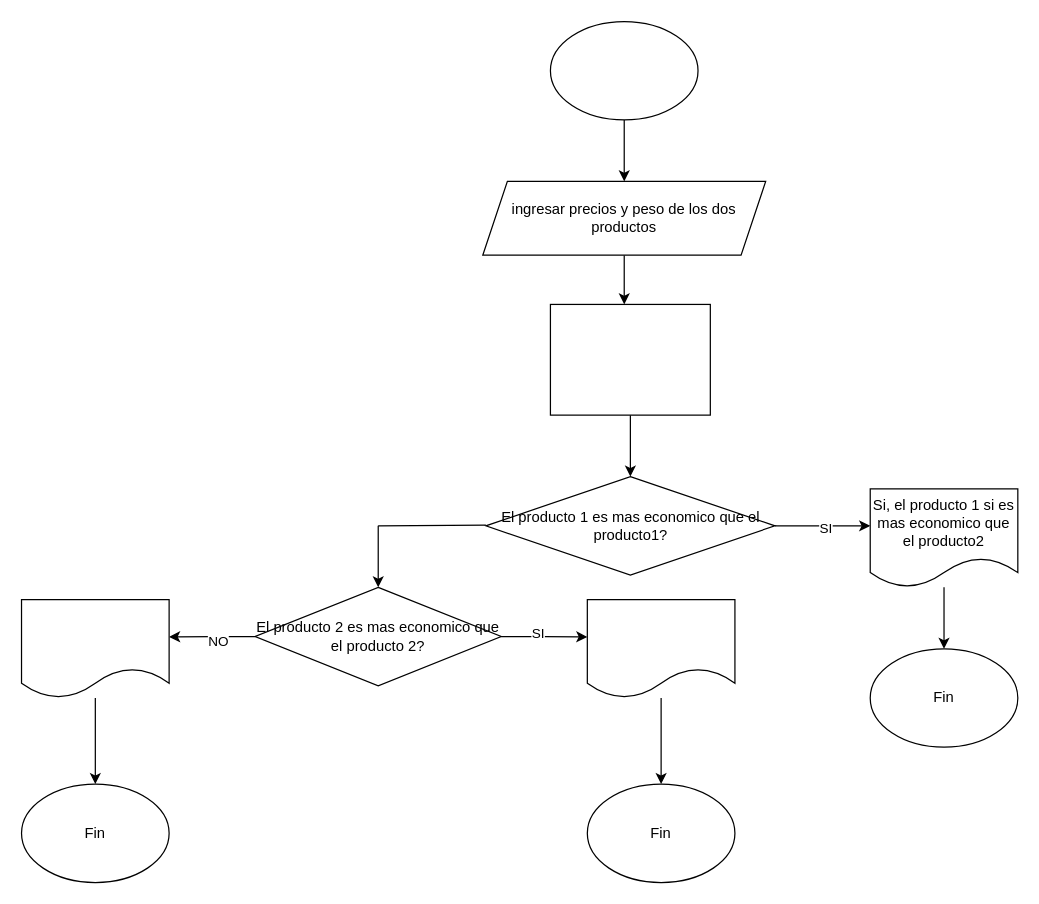
The diagram is 1039 pixels wide and 904 high, and some of its shapes have lost their labels. The shapes that lost their labels are listed below. From the top down, each one's box as (x1, y1, x2, y2) in pixels, then its label:
(549, 20, 698, 120): Inicio
(549, 303, 710, 415): Calcular precio por kilo de los dos productos (una division entre precio y peso)
(20, 598, 169, 698): Los dos productos tienen el mismo precio
(586, 598, 735, 698): Si, el producto 2 es mas economico que el producto 1
